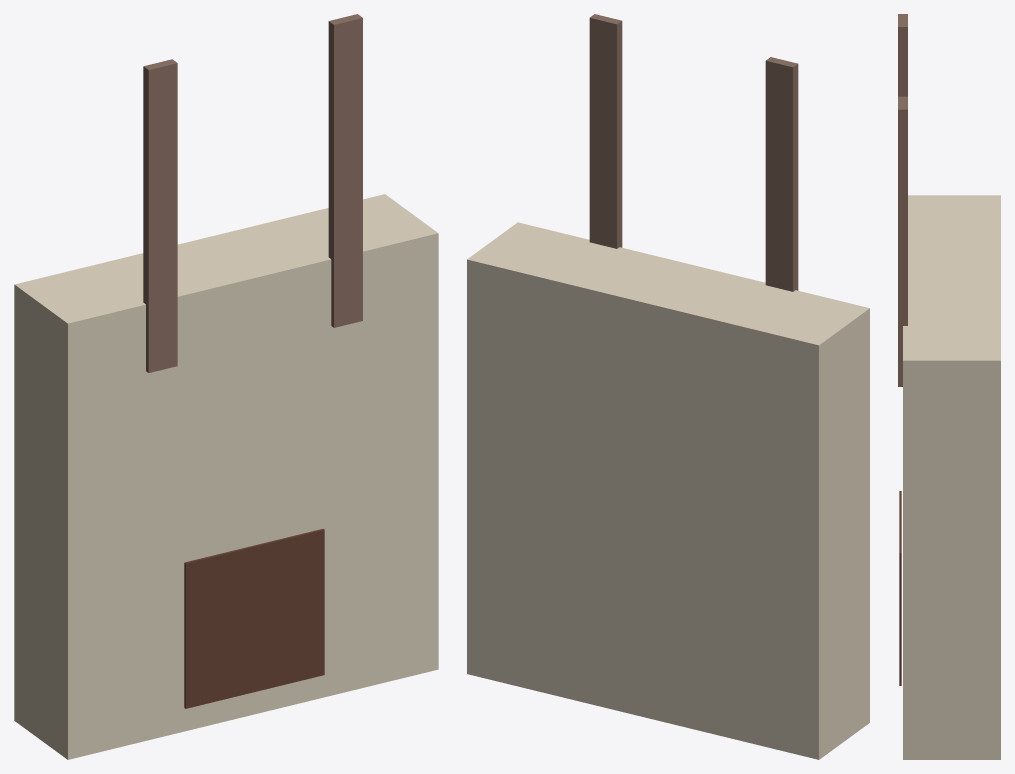
Rendered from tui_vai_di_chua.obj.
The picture shows the model from 3 angles, left to right: view 1: azimuth 30°, elevation 25°; view 2: azimuth 150°, elevation 25°; view 3: azimuth 270°, elevation 25°; orthographic projection. The views are drawn at different scales.
Bounding box in the file's own units: 0.32 × 0.555 × 0.084.
